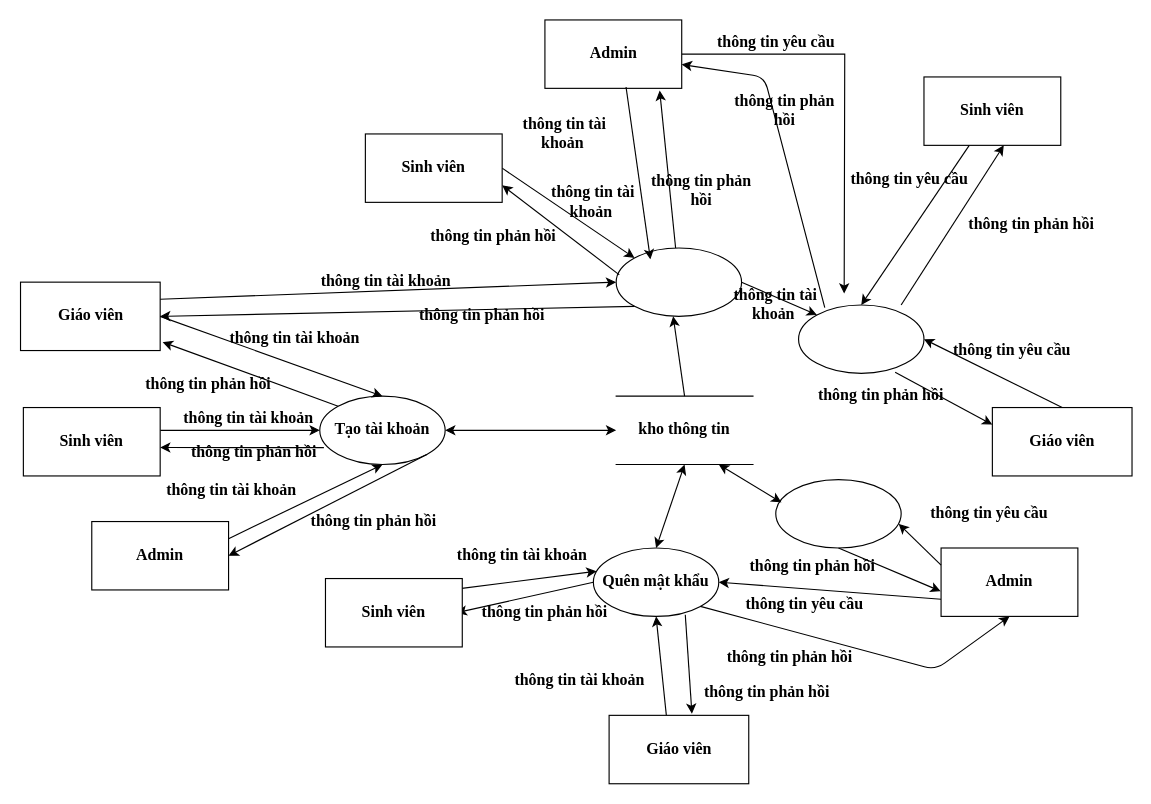
This 1151x804 diagram has some shape labels left out. The shapes that lost their labels are listed below. From the top down, each one's centre as x and y in pixels, then its label:
At pixel 678 281: "Đăng nhập".
At pixel 860 338: "Đăng xuất".
At pixel 838 513: "Thay đổi quyền".
